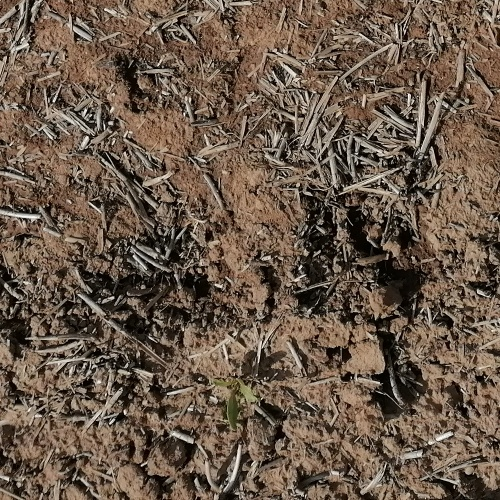beet: (218, 376, 257, 431)
